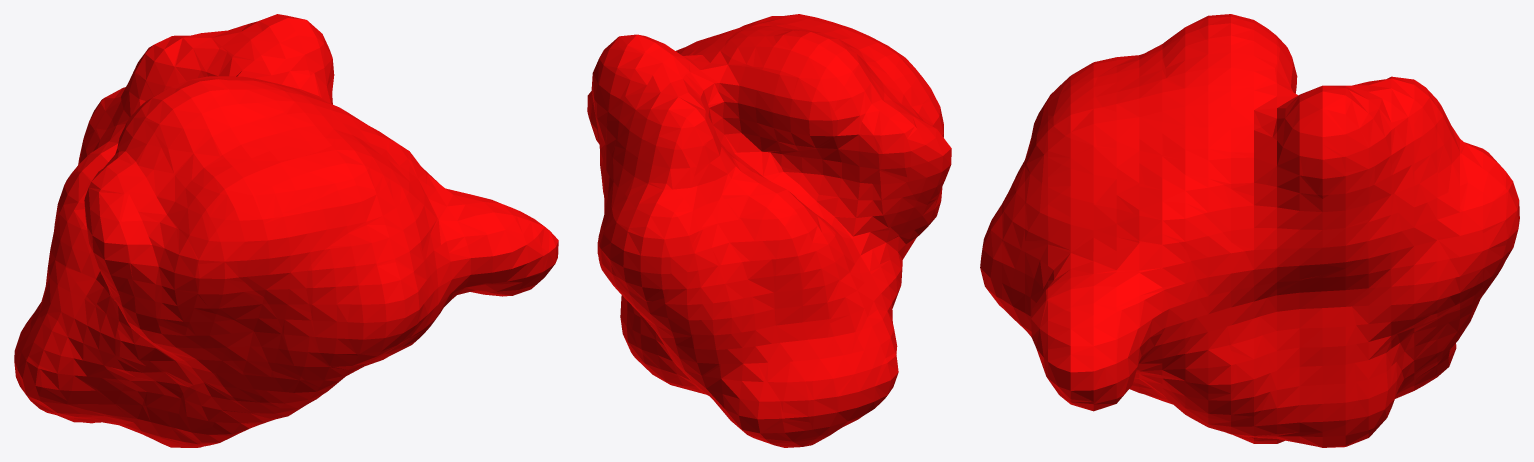
The model's file is yecM_coarse.dae.
3 views of the same model, side by side, from view 1: azimuth 30°, elevation 25°; view 2: azimuth 150°, elevation 25°; view 3: azimuth 270°, elevation 25° (orthographic). The views are drawn at different scales.
Visible parts, largest first — view 1: yecM; view 2: yecM; view 3: yecM.
Part boxes in pixels (left/top/right/bottom): yecM: left=14, top=14, right=558, bottom=447; yecM: left=587, top=14, right=951, bottom=447; yecM: left=980, top=14, right=1519, bottom=447.
Size of the model in its own units: 51.18 by 43.64 by 51.19.
